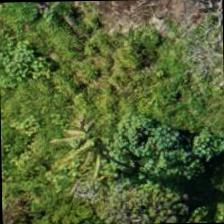Kelapa_Sawit: (50, 93, 142, 186)
